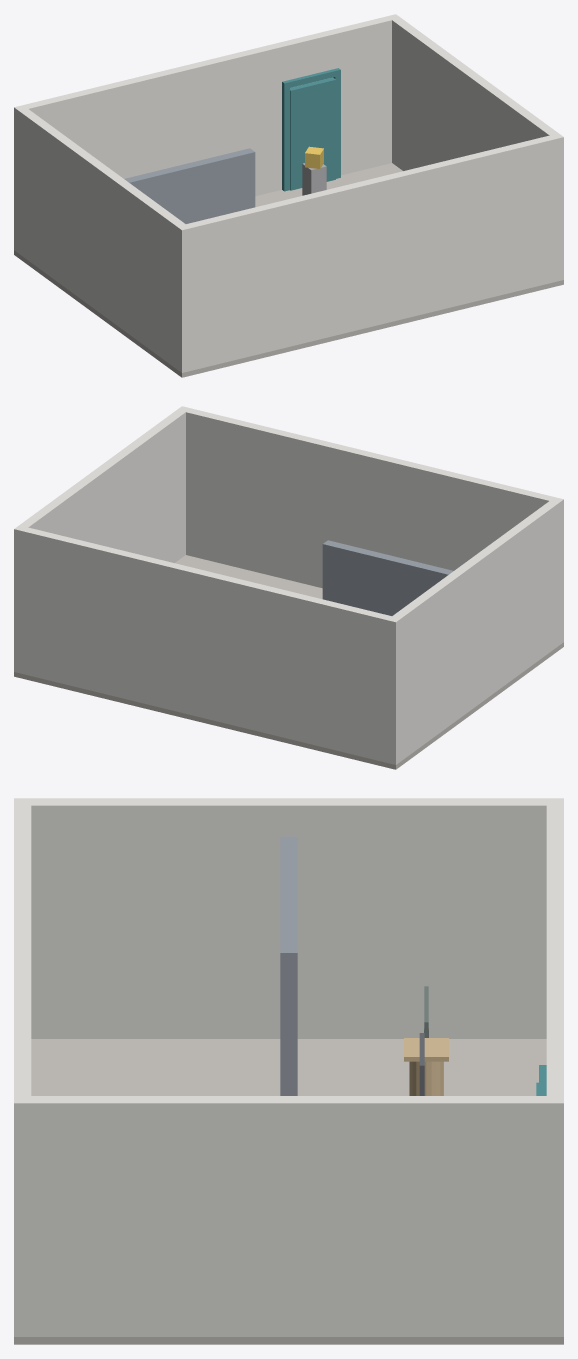
File: world.glb
3 renders of one model, top to bottom at view 1: azimuth 30°, elevation 25°; view 2: azimuth 150°, elevation 25°; view 3: azimuth 270°, elevation 25°, orthographic. The views are drawn at different scales.
Parts seen in each view (by area): view 1: WallSouth, WallNorth, WallWest, WallEast, Partition, Door_Home, Floor, BeaconStand; view 2: WallNorth, WallSouth, WallWest, WallEast, Partition, Floor; view 3: WallEast, WallWest, Floor, WallNorth, WallSouth, Partition, Plinth.
Part boxes in pixels (<box>): WallSouth: <box>176,133,563,372</box>; WallNorth: <box>14,14,400,253</box>; WallWest: <box>19,109,185,368</box>; WallEast: <box>392,18,558,170</box>; Partition: <box>124,148,255,223</box>; Door_Home: <box>282,68,340,191</box>; Floor: <box>14,163,563,377</box>; BeaconStand: <box>302,163,326,195</box>; WallNorth: <box>14,525,401,764</box>; WallSouth: <box>177,406,563,645</box>; WallWest: <box>392,501,558,760</box>; WallEast: <box>19,410,185,562</box>; Partition: <box>322,540,453,615</box>; Floor: <box>14,555,563,769</box>; WallEast: <box>31,1096,546,1336</box>; WallWest: <box>31,798,546,1038</box>; Floor: <box>14,1039,563,1344</box>; WallNorth: <box>546,798,563,1336</box>; WallSouth: <box>14,798,31,1336</box>; Partition: <box>280,836,297,1095</box>; Plinth: <box>404,1038,448,1095</box>.
Size of the model in its own units: 8.4 by 3.1 by 6.4.
